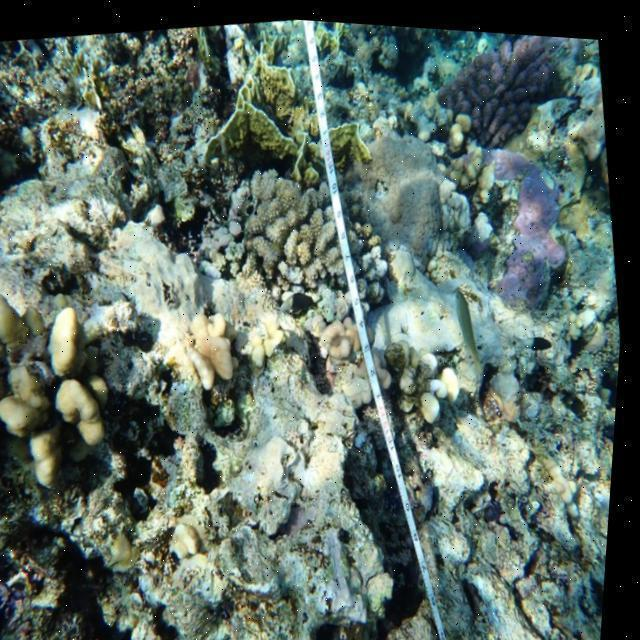Bleached Coral: (60, 178, 252, 340), (340, 210, 414, 305)
Healthy Coral: (453, 32, 579, 140)
